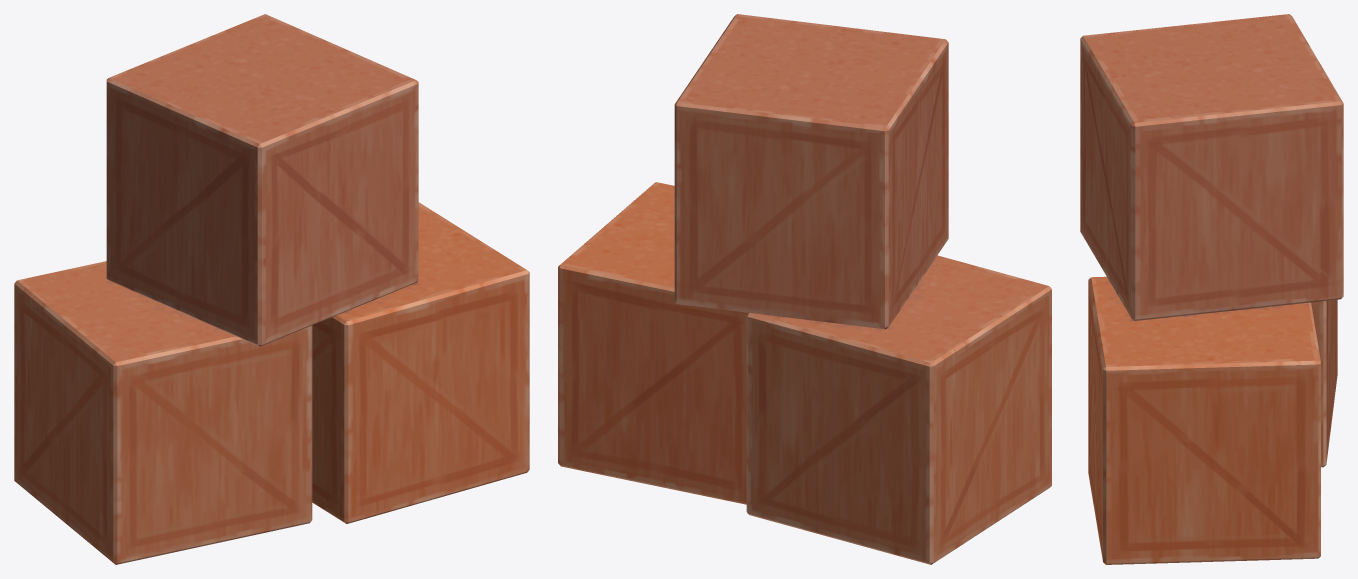
File: stack_crates.fbx
3 views of the same model, side by side, from view 1: azimuth 30°, elevation 25°; view 2: azimuth 150°, elevation 25°; view 3: azimuth 270°, elevation 25° (orthographic). The views are drawn at different scales.
Visible parts, largest first — view 1: stack_crates; view 2: stack_crates; view 3: stack_crates.
Part boxes in pixels (<box>): stack_crates: <box>14,14,529,564</box>; stack_crates: <box>558,14,1051,564</box>; stack_crates: <box>1080,14,1343,564</box>.
Size of the model in its own units: 6.32 by 6 by 3.62.
Materials: 1 (1 with a texture image).
